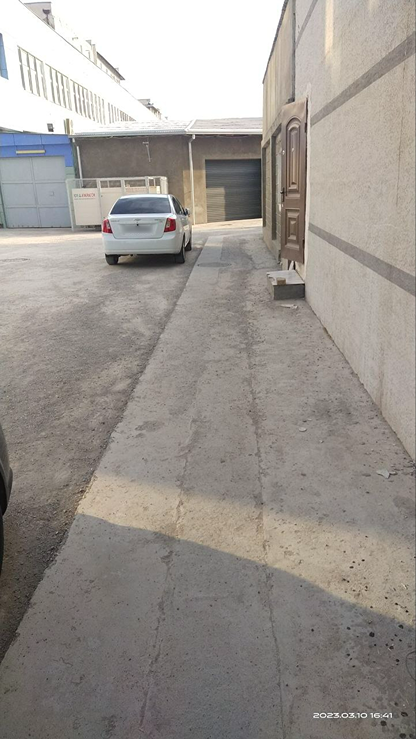car: (93, 182, 207, 272)
